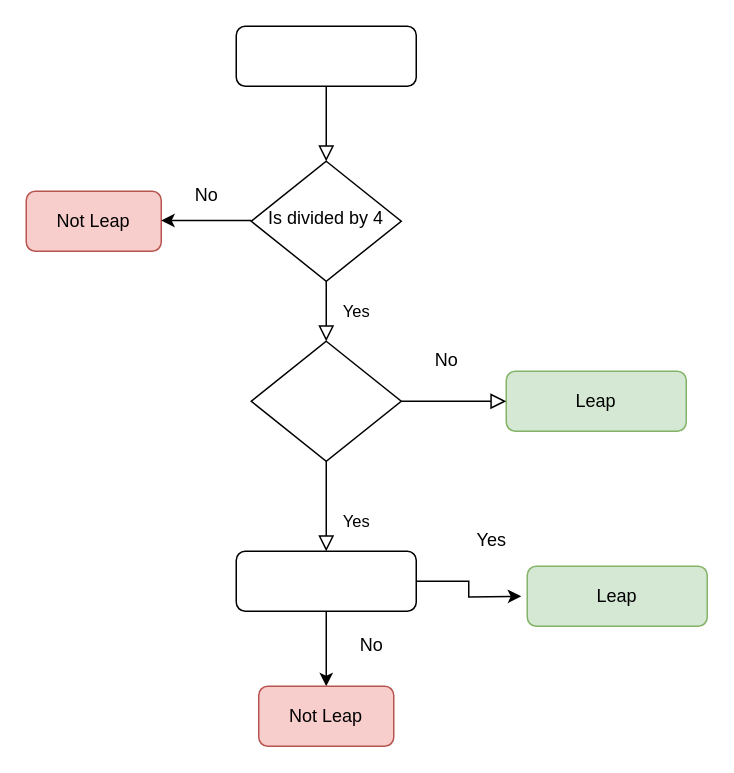
Some shapes in this 734 by 773 pixel diagram are drawn without their labels. Here are the shapes that lost their labels. From the top down, the box of each, then its label:
(235, 25, 416, 86): Year
(250, 340, 401, 461): It's clearly divisable by 100
(235, 550, 416, 611): It's clearly divisable by 400
